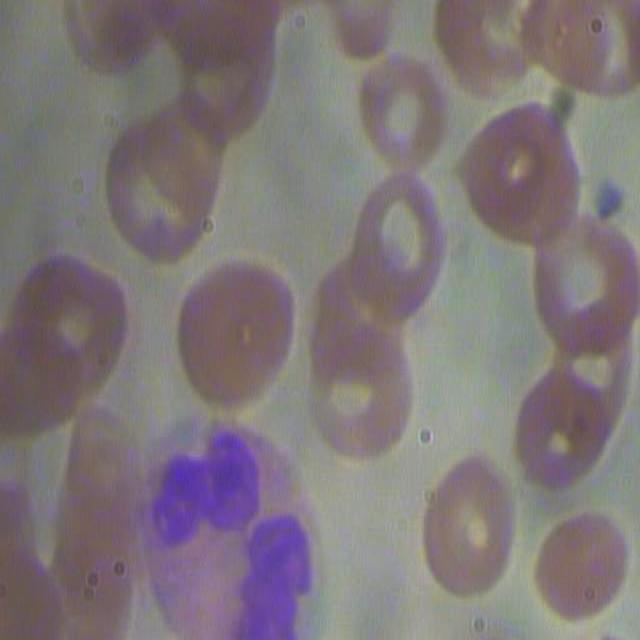RBC: (97, 21, 223, 279), (170, 255, 297, 419), (54, 420, 147, 640), (319, 274, 427, 463), (0, 235, 127, 394), (456, 98, 578, 246), (2, 476, 112, 640), (528, 212, 636, 348), (170, 2, 277, 137), (350, 166, 446, 314), (54, 8, 200, 104), (510, 367, 616, 496), (418, 454, 514, 596), (519, 1, 637, 105), (353, 58, 451, 177), (534, 506, 628, 622), (321, 14, 452, 93)
WBC: (154, 425, 345, 640)
platelets: (590, 175, 629, 234)
